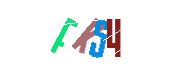4: (73, 0, 153, 80)
F: (44, 0, 124, 80)
K: (45, 0, 125, 80)
S: (49, 0, 129, 80)
